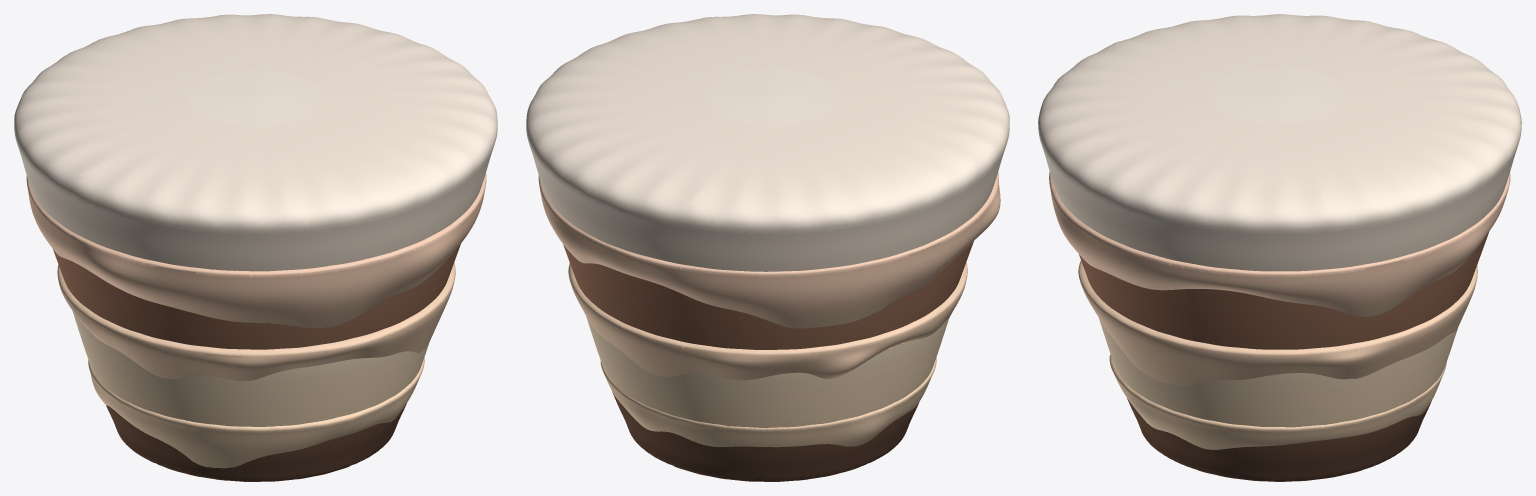
File: PostreSweetHelp_Base_mixta.glb
The picture shows the model from 3 angles, left to right: view 1: azimuth 30°, elevation 25°; view 2: azimuth 150°, elevation 25°; view 3: azimuth 270°, elevation 25°; orthographic projection.
Visible parts, largest first — view 1: CremaBasw, crema_Suelta; view 2: CremaBasw, crema_Suelta; view 3: CremaBasw, crema_Suelta.
Boxes of the visible parts, x1,y1,x2,y2 form: CremaBasw: [14, 14, 497, 481]; crema_Suelta: [26, 173, 486, 468]; CremaBasw: [526, 14, 1009, 481]; crema_Suelta: [538, 172, 1000, 447]; CremaBasw: [1038, 14, 1521, 481]; crema_Suelta: [1049, 172, 1510, 449].
Size of the model in its own units: 2.5 by 1.89 by 2.5.
2 materials, 2 textured.
